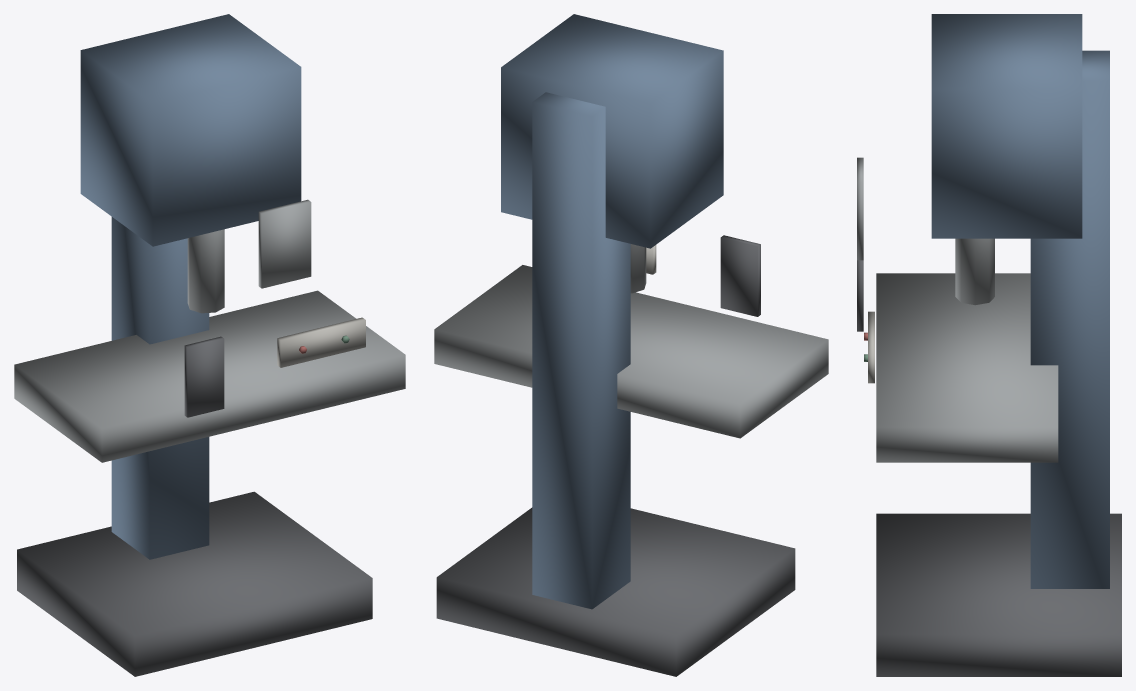
The model's file is milling_machine_silhouette__weathered.glb.
The picture shows the model from 3 angles, left to right: view 1: azimuth 30°, elevation 25°; view 2: azimuth 150°, elevation 25°; view 3: azimuth 270°, elevation 25°; orthographic projection. The views are drawn at different scales.
Visible parts, largest first — view 1: world; view 2: world; view 3: world.
Boxes of the visible parts, <box> form: world: <box>14,14,405,676</box>; world: <box>434,14,828,676</box>; world: <box>857,14,1121,676</box>.
Size of the model in its own units: 0.92 by 1.57 by 0.6683.
